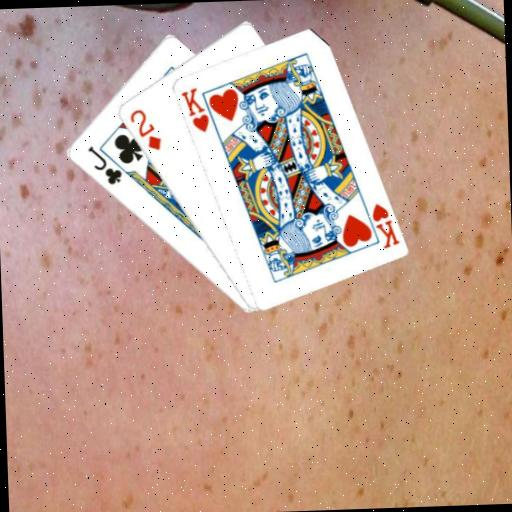2D: (125, 105, 163, 153)
JC: (83, 142, 123, 187)
KH: (177, 83, 211, 134), (367, 198, 400, 250)
